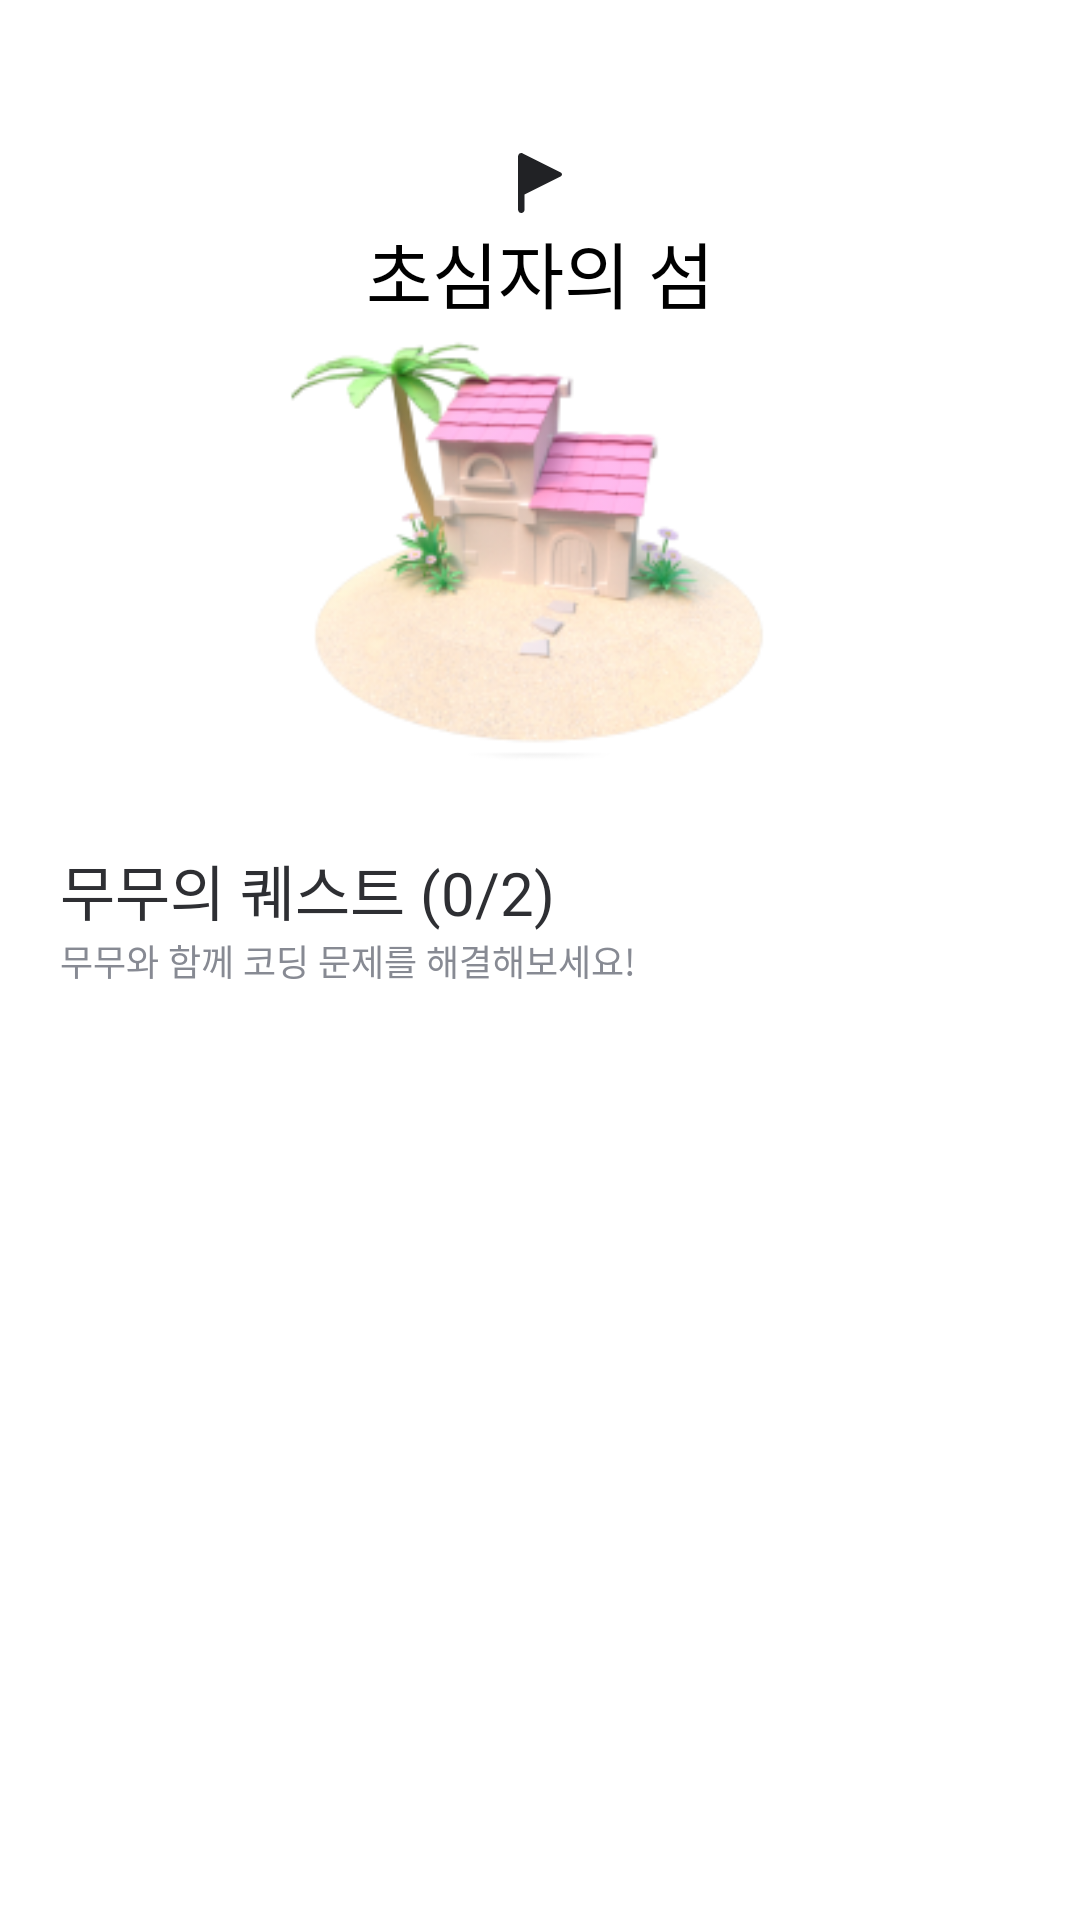

Where icons sit on this 1080x1920 app screen, as (x1, y1, x2, y2):
island flag: (518, 153, 562, 213)
